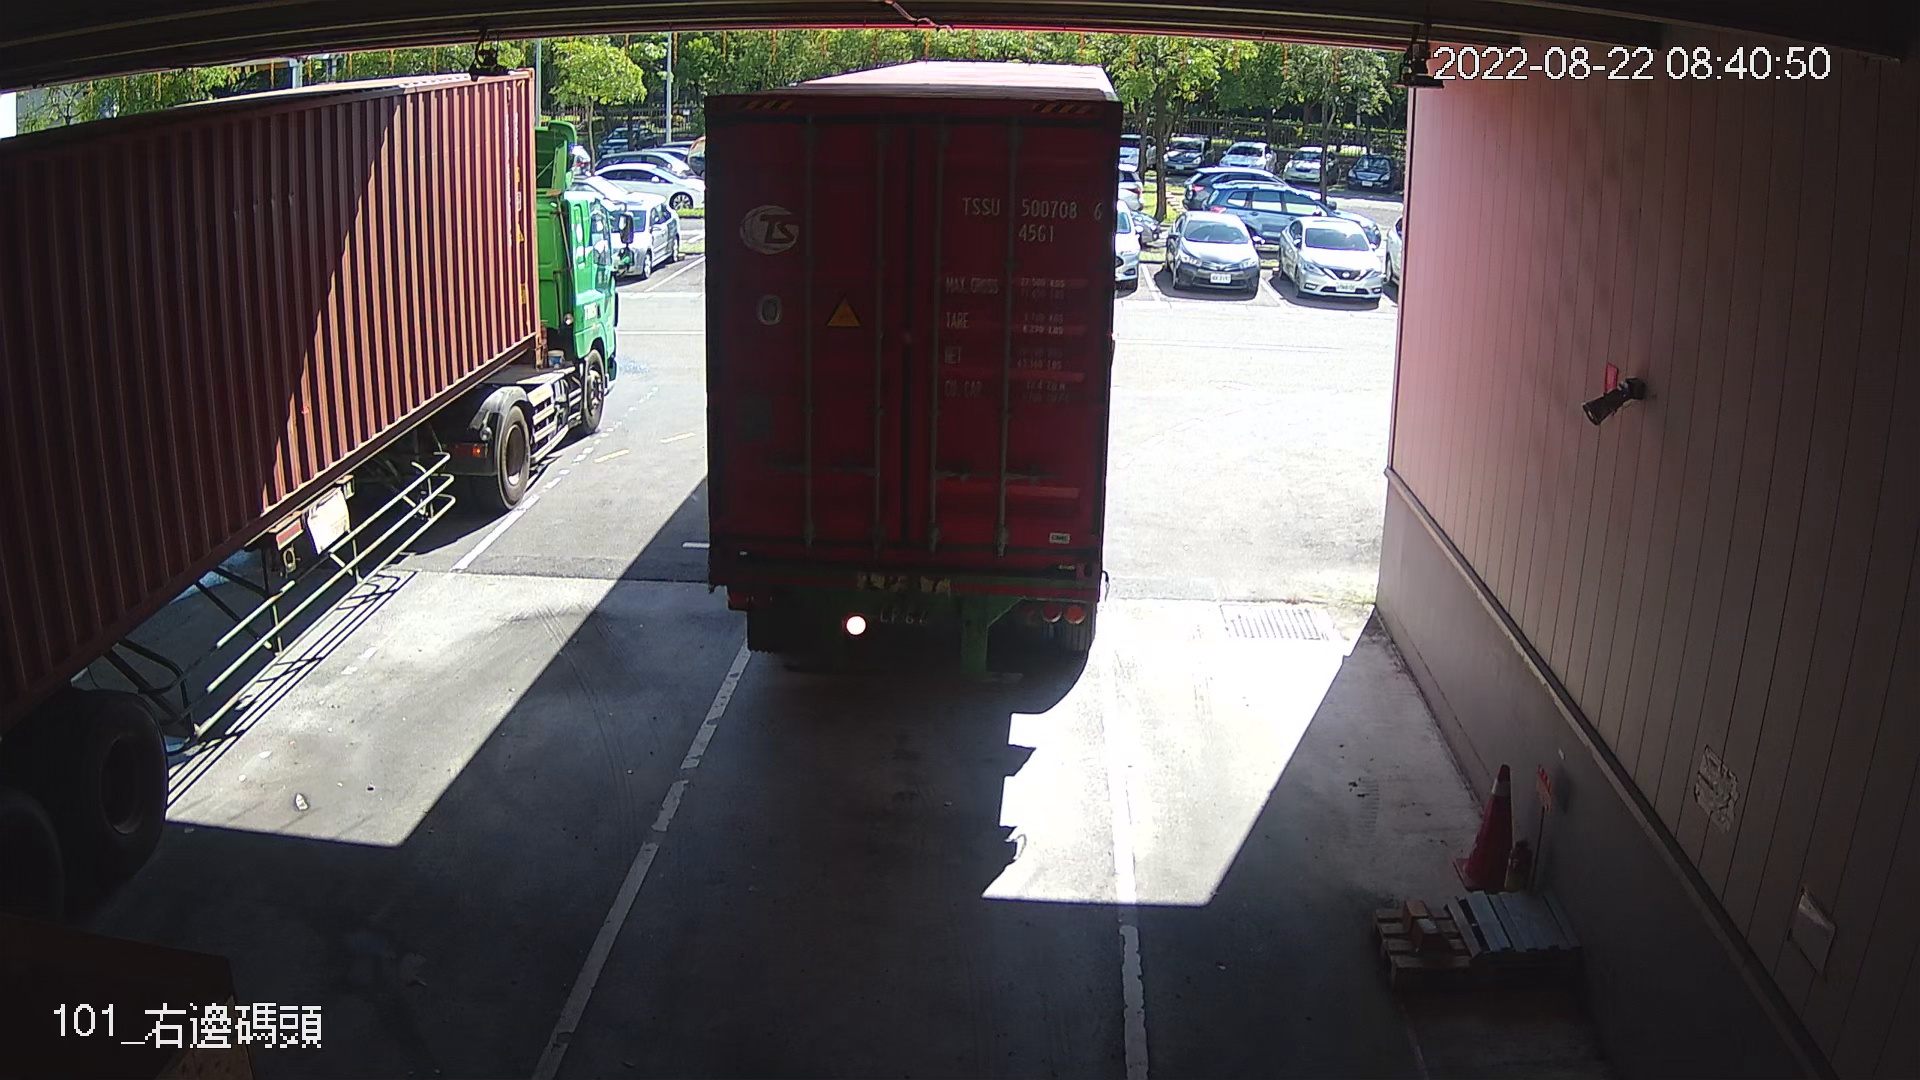container: (949, 182, 1110, 248)
